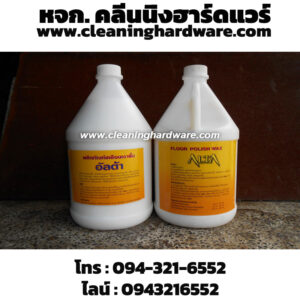Cleaning_solution: (59, 57, 156, 231), (154, 61, 240, 231)
